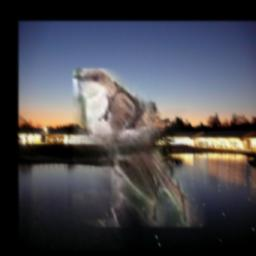Cuckoo: (73, 69, 207, 227)
